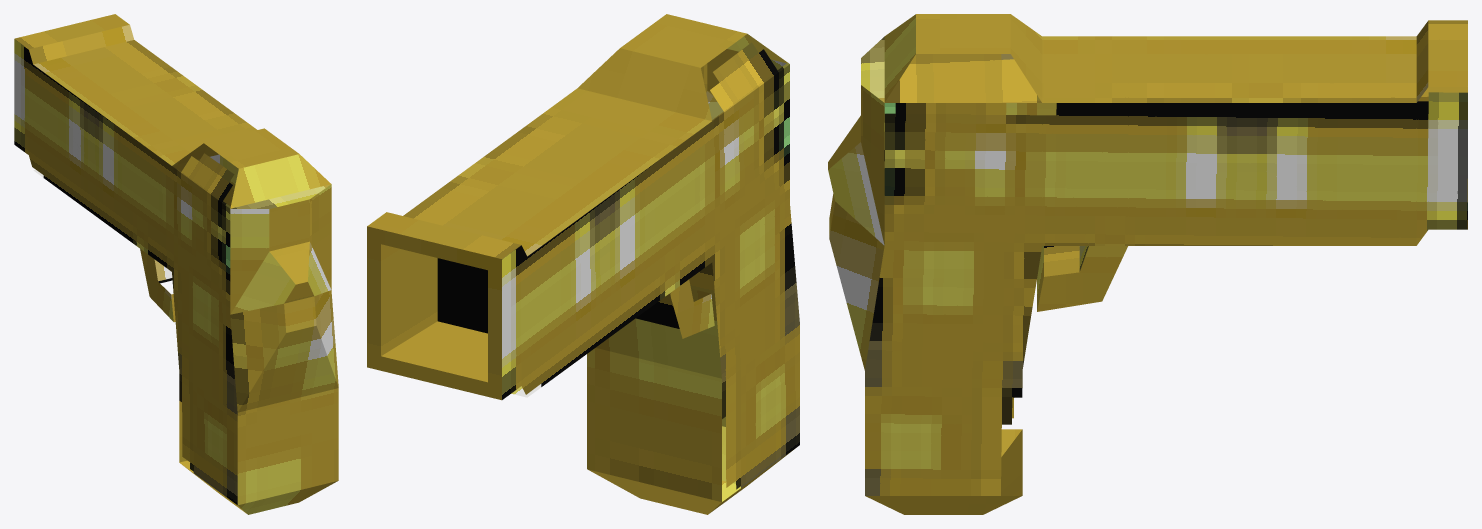
The model's file is mdlGoldenGun.fbx.
3 renders of one model, left to right at view 1: azimuth 30°, elevation 25°; view 2: azimuth 150°, elevation 25°; view 3: azimuth 270°, elevation 25°, orthographic. The views are drawn at different scales.
Parts seen in each view (by area): view 1: Cube; view 2: Cube; view 3: Cube.
Part boxes in pixels (x1,y1,x2,y2): Cube: (14,14,338,514); Cube: (367,14,799,514); Cube: (828,14,1467,514).
Size of the model in its own units: 80 by 260 by 325.
